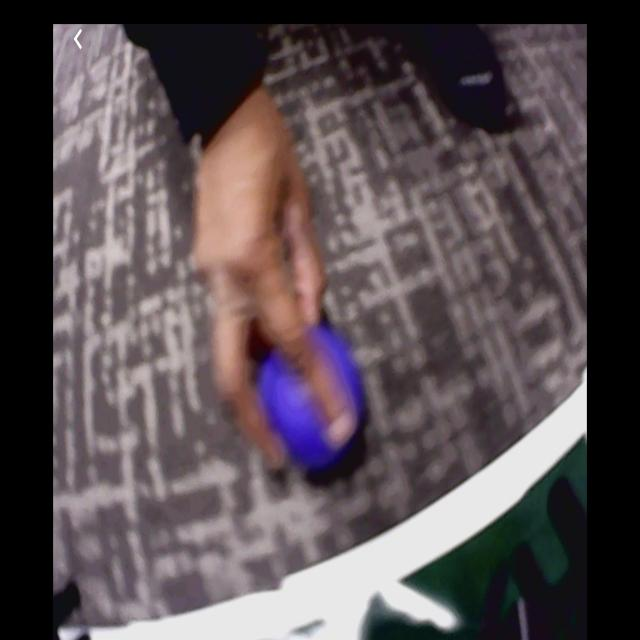ball: (259, 336, 363, 473)
